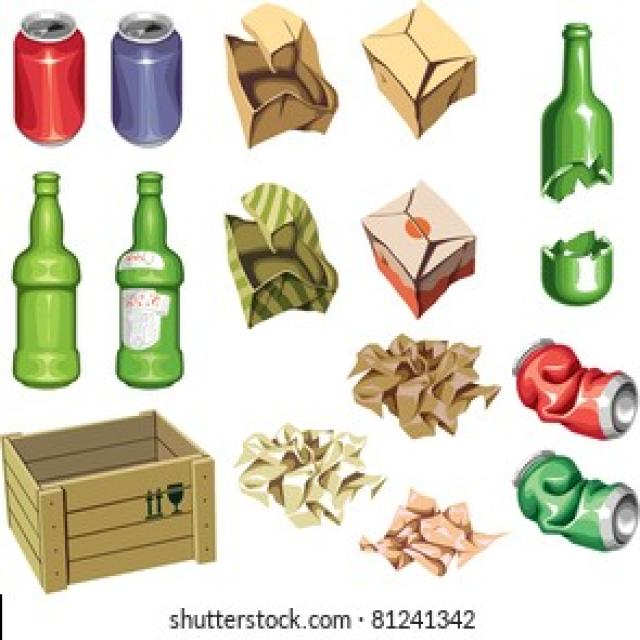metal: (104, 7, 208, 151), (5, 7, 96, 142)
